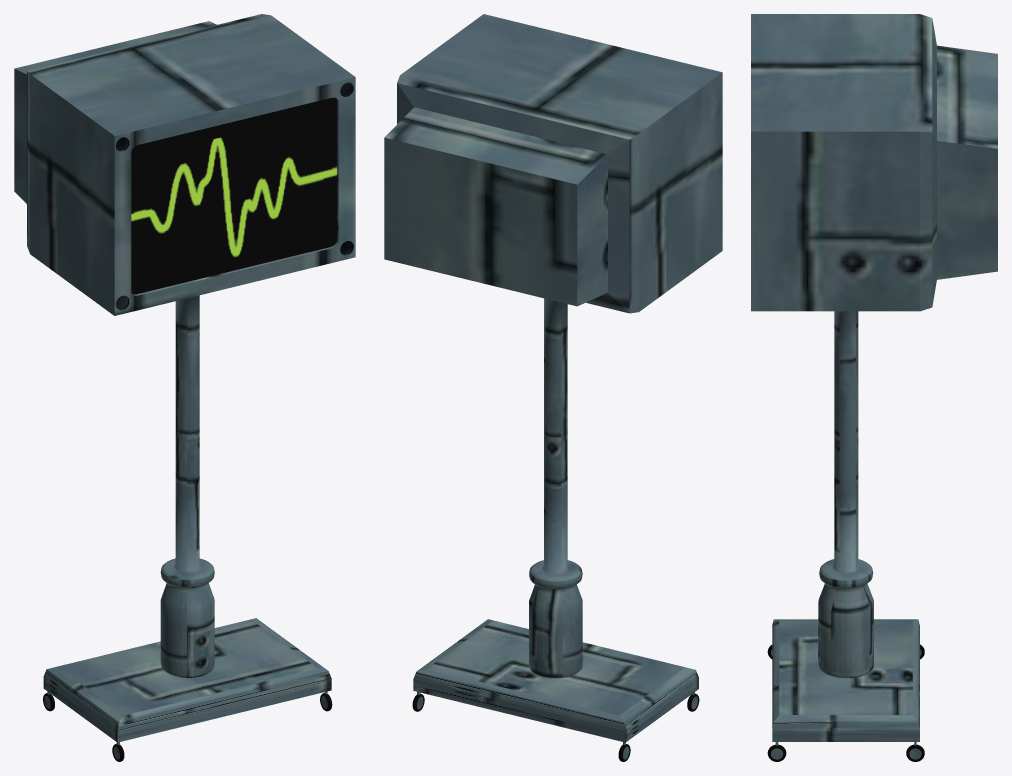
Rendered from karen.glb.
3 renders of one model, left to right at view 1: azimuth 30°, elevation 25°; view 2: azimuth 150°, elevation 25°; view 3: azimuth 270°, elevation 25°, orthographic.
Parts seen in each view (by area): view 1: Object_2, Object_9, Object_7, Object_8, Object_3; view 2: Object_2, Object_7, Object_8; view 3: Object_2, Object_7, Object_8, Object_4.
Part boxes in pixels (box(x1,y1,x2,y2)): Object_2: box(14, 14, 355, 315); Object_9: box(131, 97, 337, 294); Object_7: box(43, 618, 331, 742); Object_8: box(160, 295, 214, 677); Object_3: box(116, 82, 353, 310); Object_2: box(384, 14, 722, 313); Object_7: box(413, 619, 698, 742); Object_8: box(529, 298, 582, 678); Object_2: box(751, 14, 997, 311); Object_7: box(772, 619, 919, 741); Object_8: box(818, 311, 873, 678); Object_4: box(767, 644, 924, 761).
Size of the model in its own units: 2.86 by 7.23 by 2.53.
8 materials, 8 textured.
